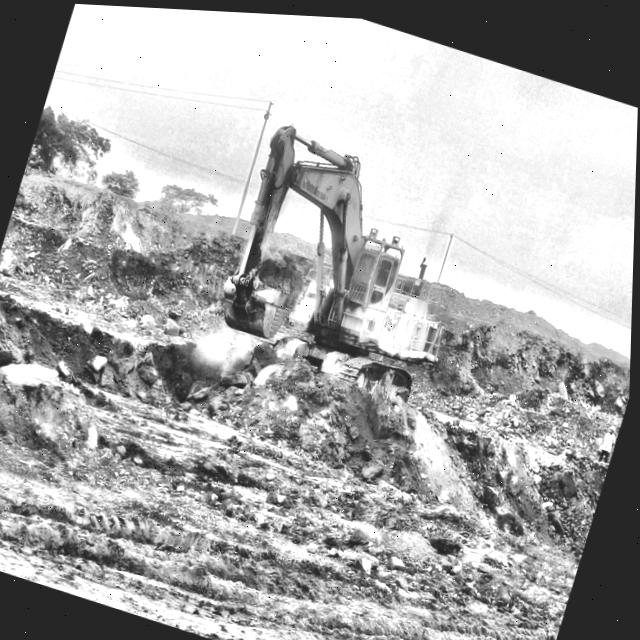excavator: (224, 124, 447, 399)
